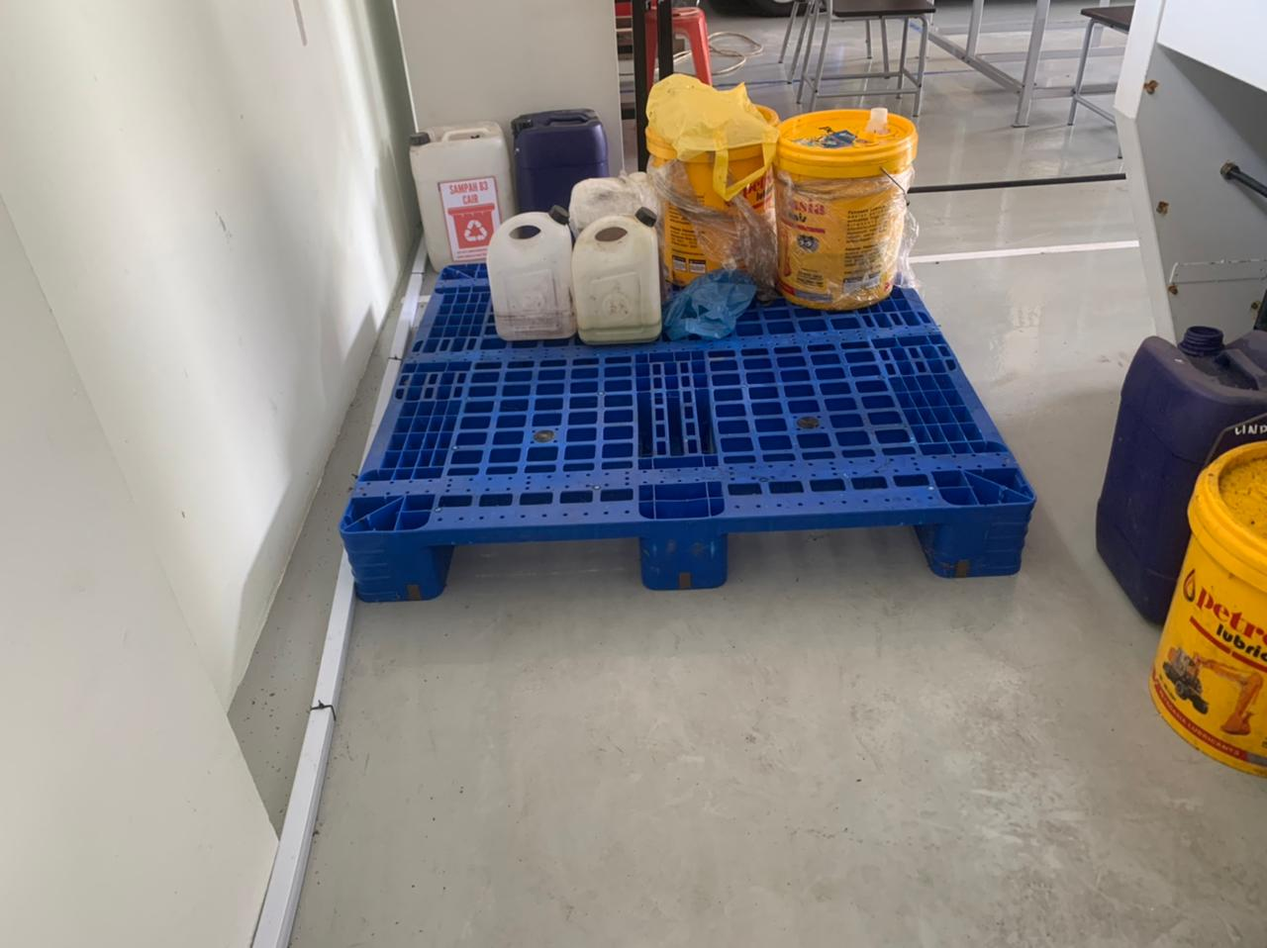block: (342, 524, 447, 597), (938, 504, 1035, 580), (635, 516, 726, 592)
front: (339, 499, 1033, 599)
hole pallet: (725, 517, 942, 587), (437, 533, 640, 594)
